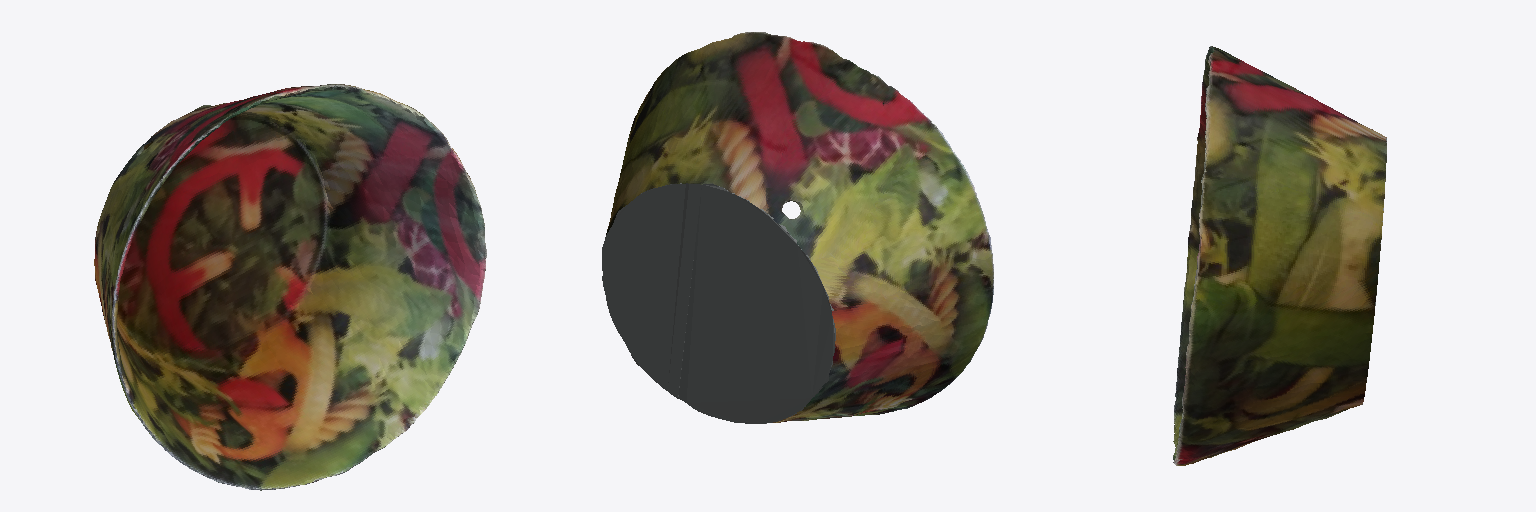
The picture shows the model from 3 angles: view 1: azimuth 30°, elevation 25°; view 2: azimuth 150°, elevation 25°; view 3: azimuth 270°, elevation 25°; orthographic projection.
Visible parts, largest first — view 1: saladbowl; view 2: saladbowl; view 3: saladbowl.
Boxes of the visible parts, x1=… form: saladbowl: x1=94, y1=84, x2=486, y2=490; saladbowl: x1=602, y1=32, x2=993, y2=423; saladbowl: x1=1173, y1=46, x2=1386, y2=465.
Size of the model in its own units: 0.1508 by 0.1486 by 0.0759.
1 materials, 1 textured.